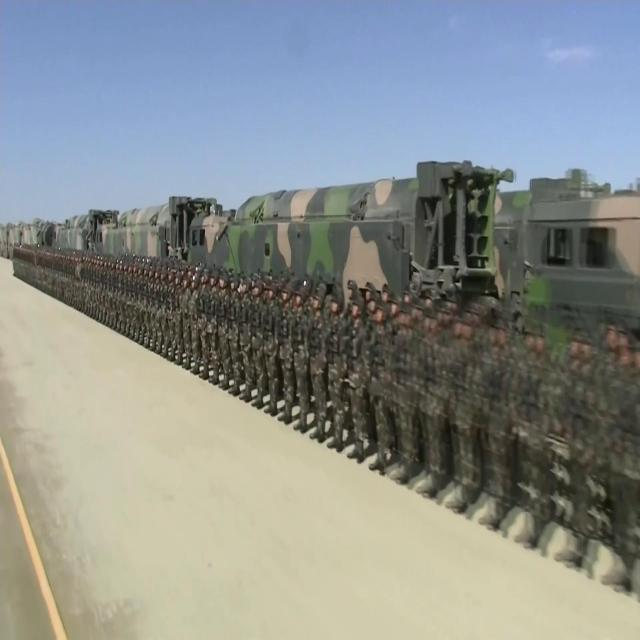Soldier: (603, 322, 640, 590), (561, 318, 595, 567), (508, 314, 544, 541), (480, 314, 508, 536), (415, 304, 441, 496), (388, 296, 412, 494), (449, 311, 473, 508), (368, 294, 390, 476), (324, 290, 347, 457), (290, 280, 314, 428), (347, 292, 369, 448), (278, 280, 302, 416), (311, 290, 330, 446), (267, 277, 283, 424), (249, 276, 267, 404), (229, 274, 245, 390), (219, 265, 231, 393)
